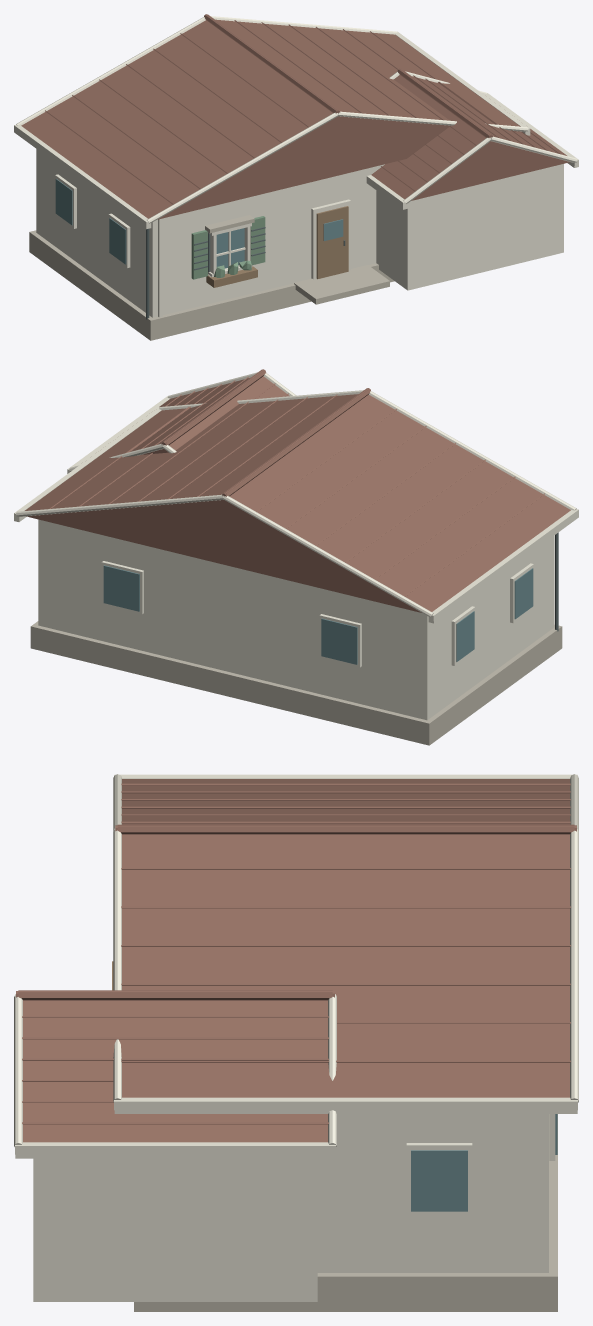
3 views of the same model, one above another, from view 1: azimuth 30°, elevation 25°; view 2: azimuth 150°, elevation 25°; view 3: azimuth 270°, elevation 25° (orthographic). The views are drawn at different scales.
Size of the model in its own units: 13.65 by 6.12 by 9.46.
